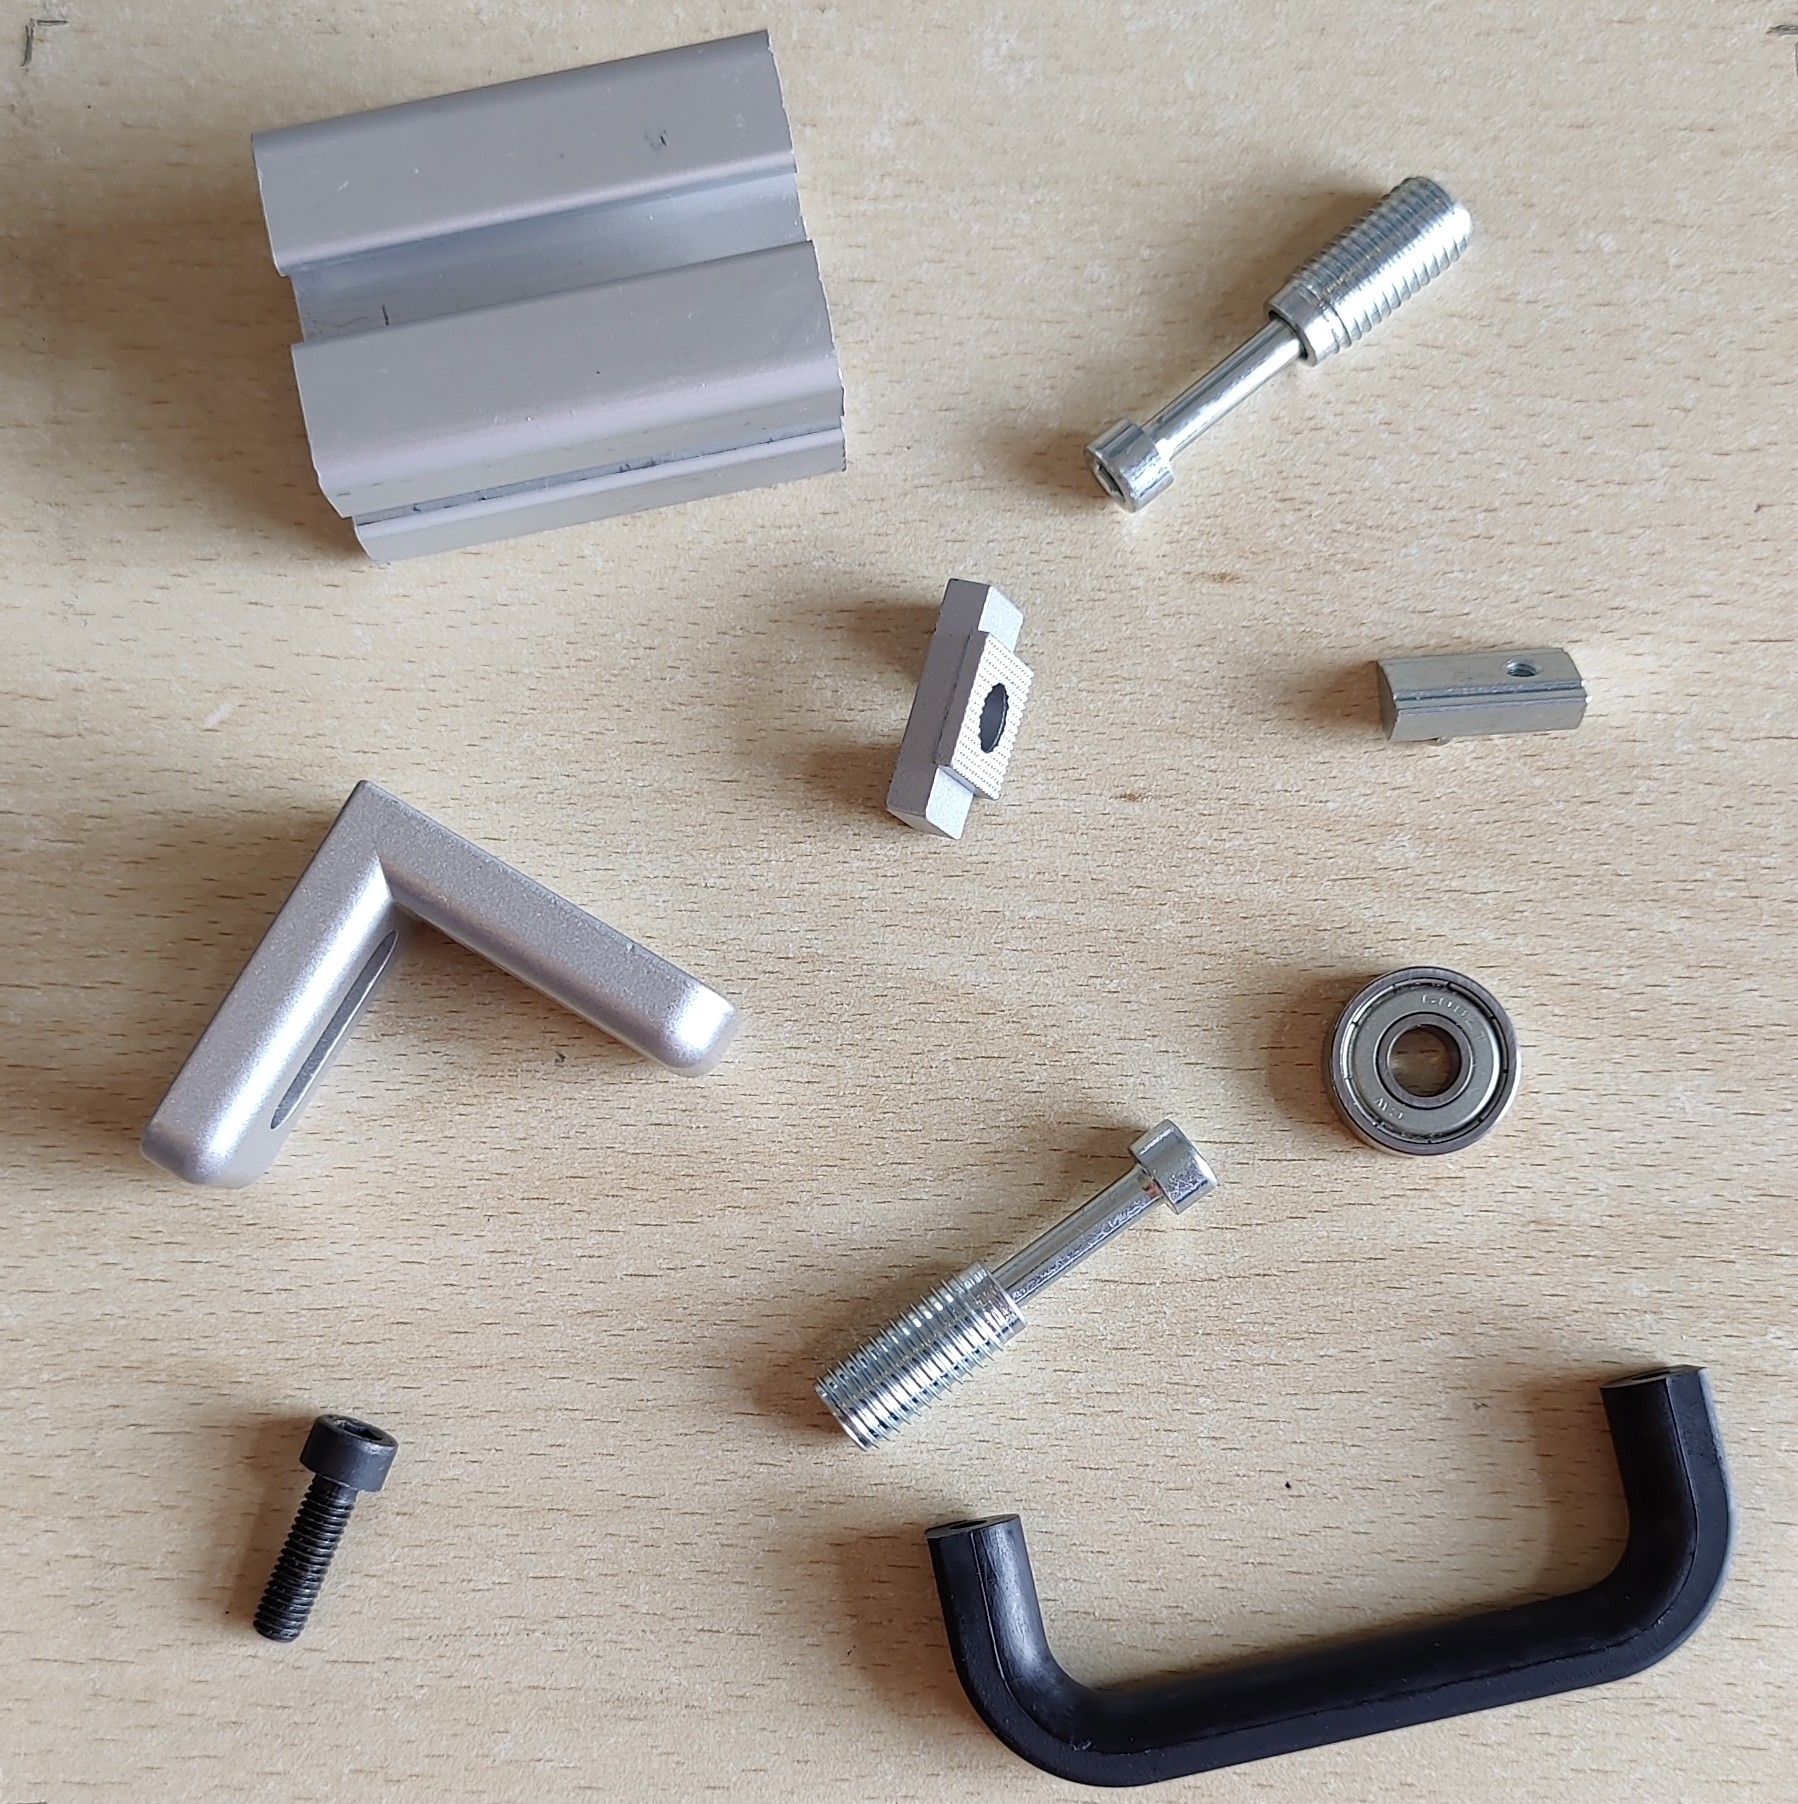Aluminium Extension: (250, 21, 850, 566)
Ball Bearing: (1319, 965, 1525, 1157)
Multiwinkel: (137, 779, 748, 1192)
Pull Handle: (925, 1365, 1735, 1789)
Shoulder Socket Head Cap Screw: (808, 1121, 1218, 1457), (1080, 173, 1479, 515)
Socket Head Cap Screw: (250, 1411, 402, 1644)
T Nut Square: (883, 574, 1036, 844)
T Spring Nut: (1370, 640, 1592, 749)
